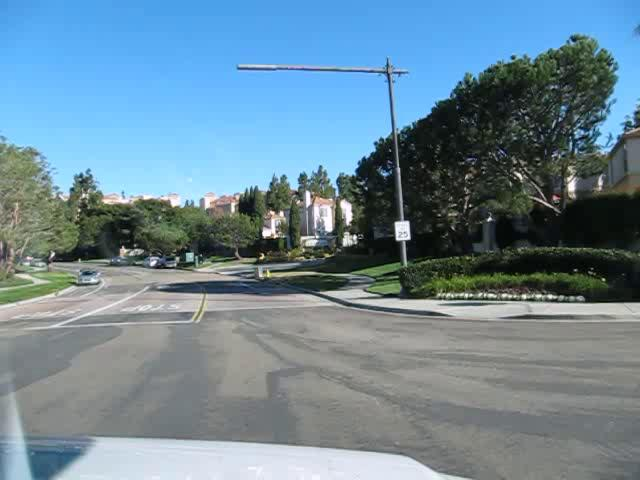speedLimit25: (394, 220, 411, 241)
